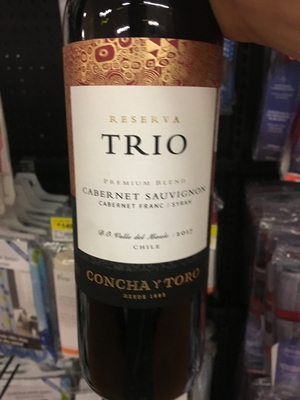trio cabernet sauvignon: (59, 3, 227, 387)
